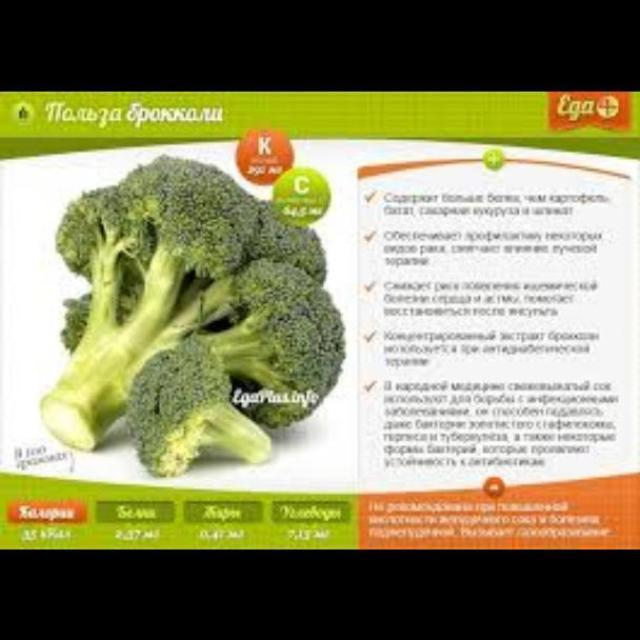Broccoli: (29, 150, 368, 487), (129, 338, 298, 476)
